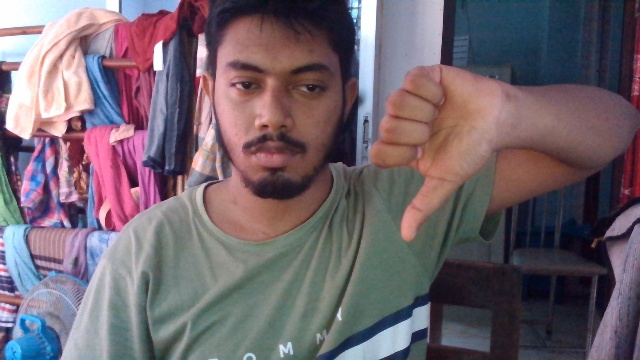no: (365, 48, 509, 247)
